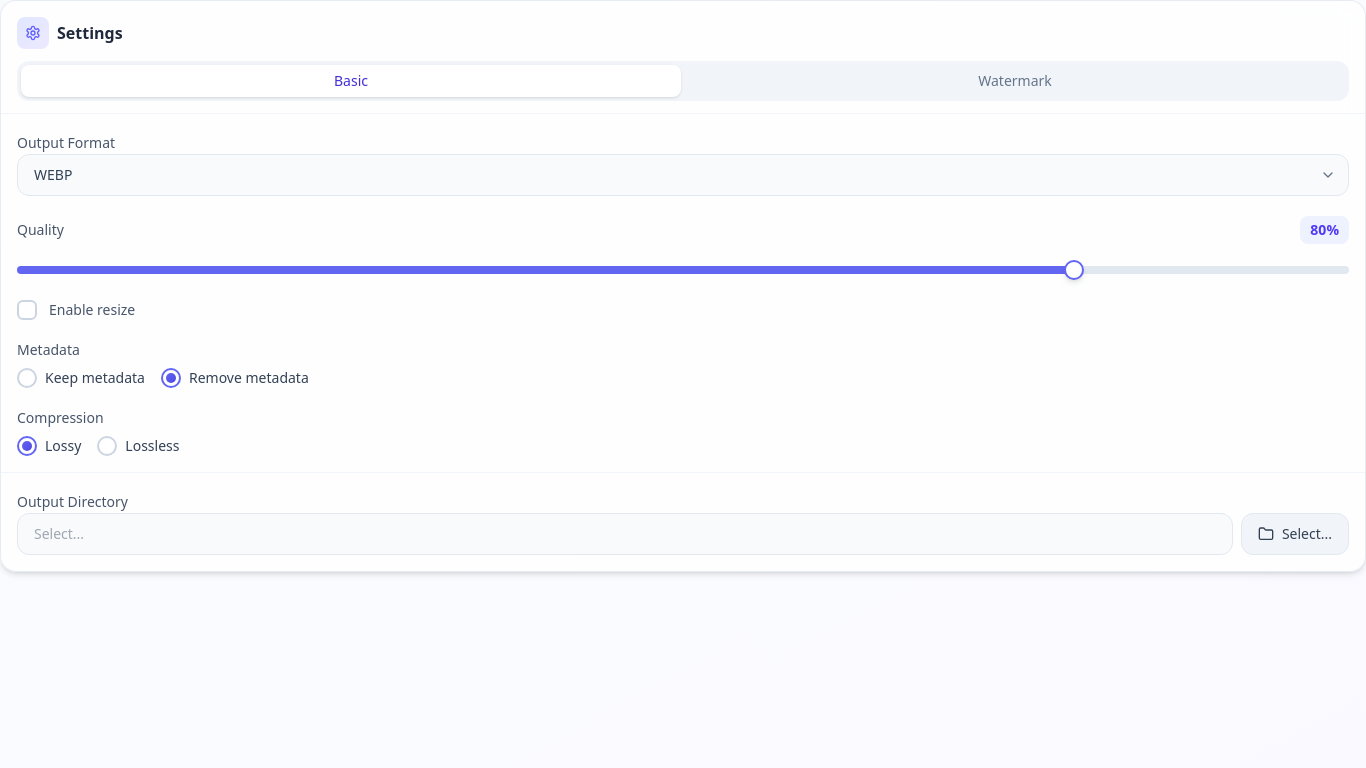
Scenario: SettingsPanel › リサイズ › 有効にすると幅・高さの欄が出るが、store はまだ null のまま
Click the checkbox labelled "Enable resize" at (27, 310), box [17, 300, 37, 320]
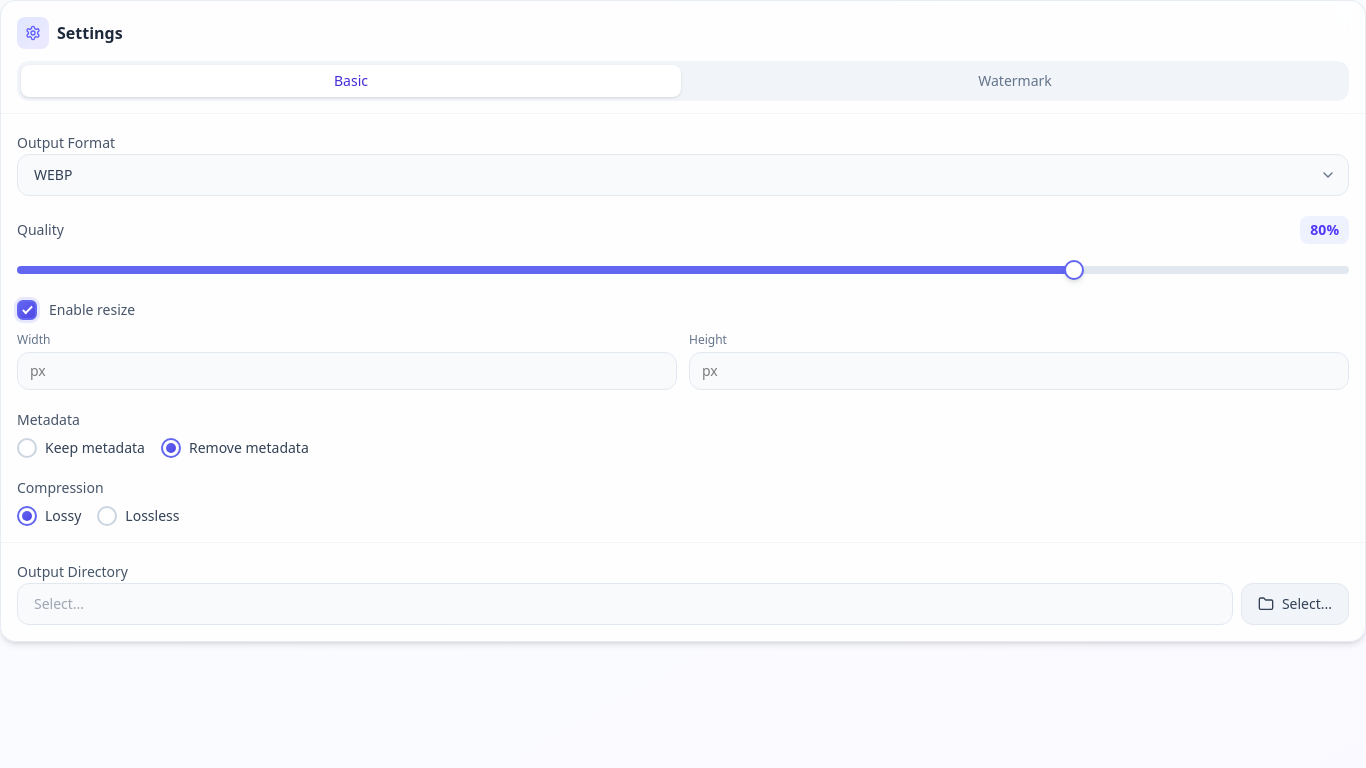
Expected: the number field labelled "Width" is not empty, [17, 352, 677, 390]
